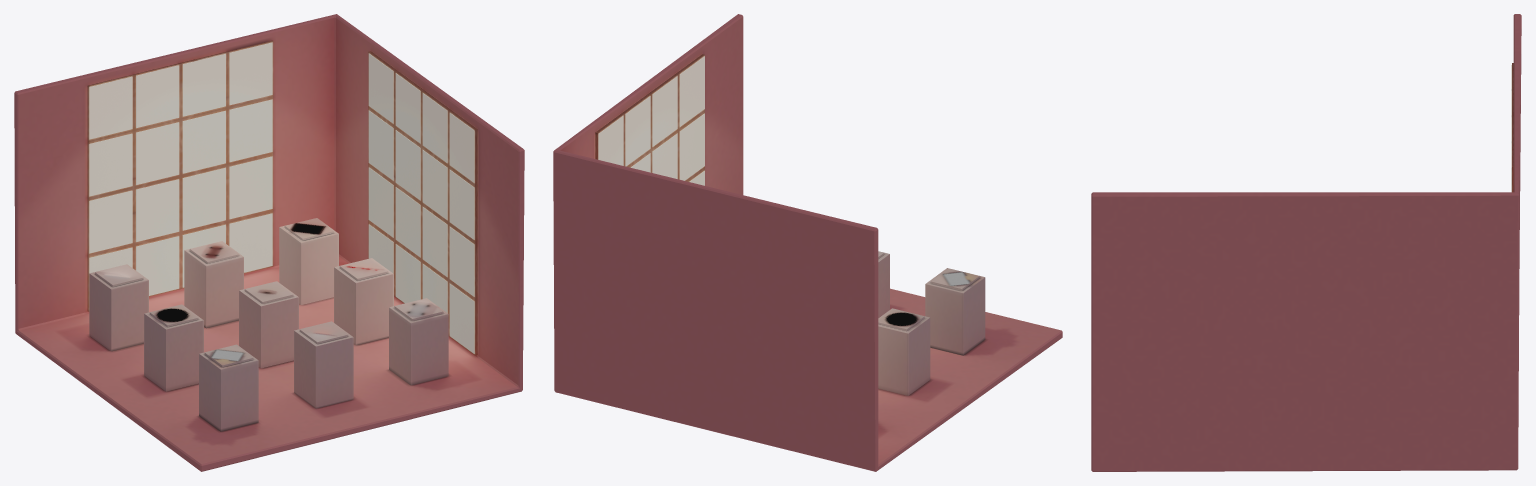
Rendered from room.glb.
The picture shows the model from 3 angles, left to right: view 1: azimuth 30°, elevation 25°; view 2: azimuth 150°, elevation 25°; view 3: azimuth 270°, elevation 25°; orthographic projection. The views are drawn at different scales.
Visible parts, largest first — view 1: Room.001_Baked, Window.002_Baked, Window.001_Baked, Window.004_Baked, Window.003_Baked, Podium.006_Baked, Podium.003_Baked, Podium.007_Baked, Podium.004_Baked, Podium.002_Baked, Podium_Baked, Podium.001_Baked (+2 smaller); view 2: Room.001_Baked, Window.001_Baked, Podium.003_Baked, Podium.002_Baked, Window.003_Baked, Podium.006_Baked; view 3: Room.001_Baked.
Boxes of the visible parts, bbox=[...] form: Room.001_Baked: bbox=[14, 14, 524, 471]; Window.002_Baked: bbox=[89, 42, 272, 295]; Window.001_Baked: bbox=[368, 53, 474, 353]; Window.004_Baked: bbox=[87, 40, 273, 311]; Window.003_Baked: bbox=[368, 51, 477, 355]; Podium.006_Baked: bbox=[294, 321, 353, 408]; Podium.003_Baked: bbox=[199, 344, 258, 431]; Podium.007_Baked: bbox=[389, 298, 448, 385]; Podium.004_Baked: bbox=[89, 264, 148, 351]; Podium.002_Baked: bbox=[144, 304, 203, 391]; Podium_Baked: bbox=[239, 281, 298, 368]; Podium.001_Baked: bbox=[334, 258, 393, 345]; Room.001_Baked: bbox=[553, 14, 1062, 471]; Window.001_Baked: bbox=[598, 56, 704, 185]; Podium.003_Baked: bbox=[925, 268, 985, 355]; Podium.002_Baked: bbox=[878, 308, 930, 395]; Window.003_Baked: bbox=[595, 54, 704, 181]; Podium.006_Baked: bbox=[878, 251, 889, 317]; Room.001_Baked: bbox=[1091, 14, 1521, 471].
Bounding box in the file's own units: 17.07 × 12.29 × 17.07.
Materials: 1 (1 with a texture image).
